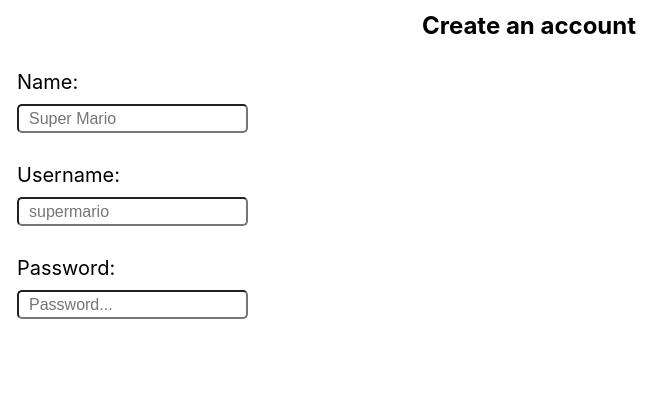
Given a Register component › When the user has already introduced a value in the three fields › Then the submit button should not be disabled
Step 1. Type "Luis" into the field with placeholder "Super Mario" → (132,118), box [17,104,248,133]
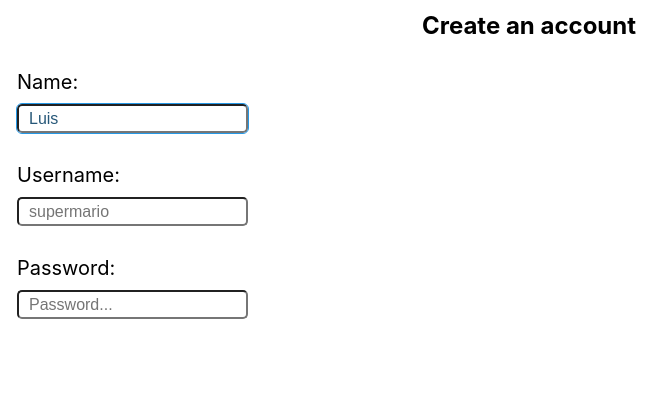
Step 2. Type "luis" into the field with placeholder "supermario" → (132,212), box [17,197,248,226]
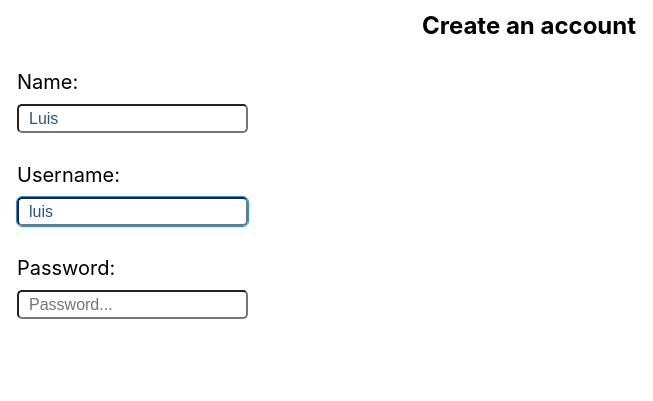
Step 3. Type "Admin123" into the password field with placeholder "Password..." → (132,304), box [17,290,248,319]
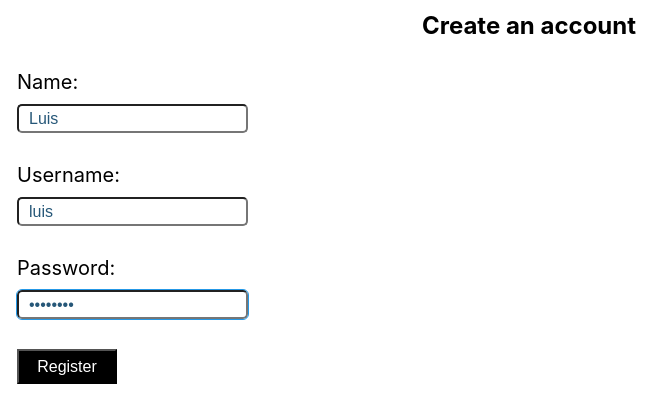
Expected: the button "Register" is enabled, [17,349,117,384]
